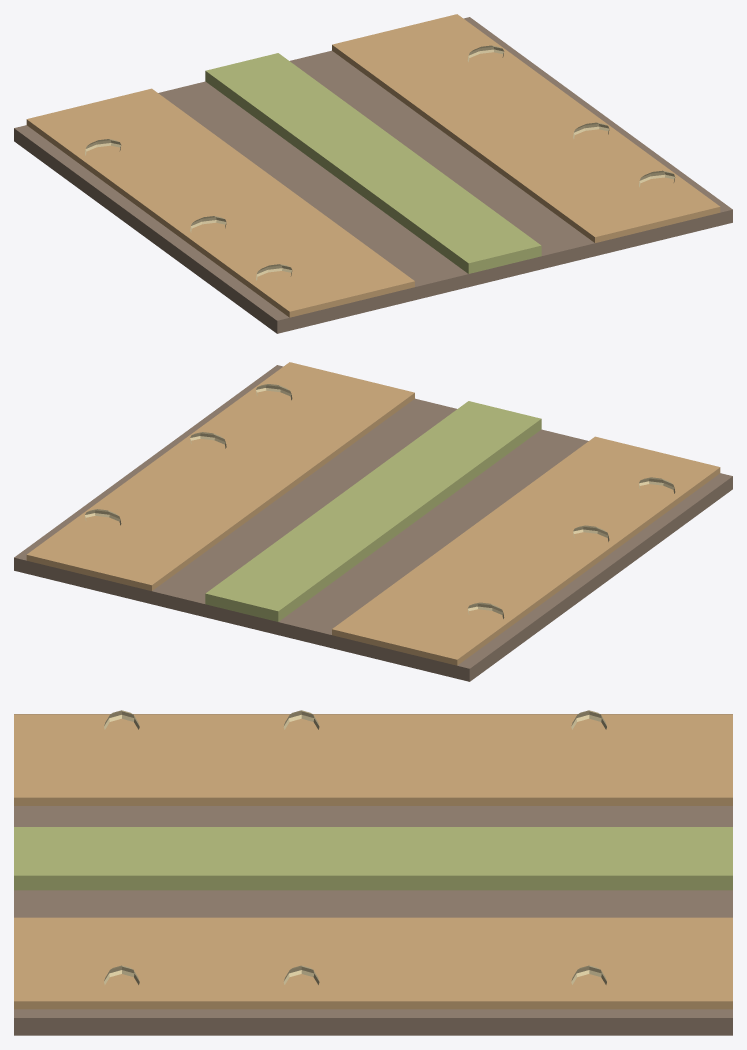
File: harvest-hearth-rutted-farm-track__55.glb
The picture shows the model from 3 angles, top to bottom: view 1: azimuth 30°, elevation 25°; view 2: azimuth 150°, elevation 25°; view 3: azimuth 270°, elevation 25°; orthographic projection. The views are drawn at different scales.
Visible parts, largest first — view 1: harvest-hearth-farm-track; view 2: harvest-hearth-farm-track; view 3: harvest-hearth-farm-track.
Boxes of the visible parts, x1,y1,x2,y2 form: harvest-hearth-farm-track: (14, 14, 732, 333); harvest-hearth-farm-track: (14, 362, 732, 681); harvest-hearth-farm-track: (14, 710, 732, 1035).
Bounding box in the file's own units: 2 × 0.125 × 2.
